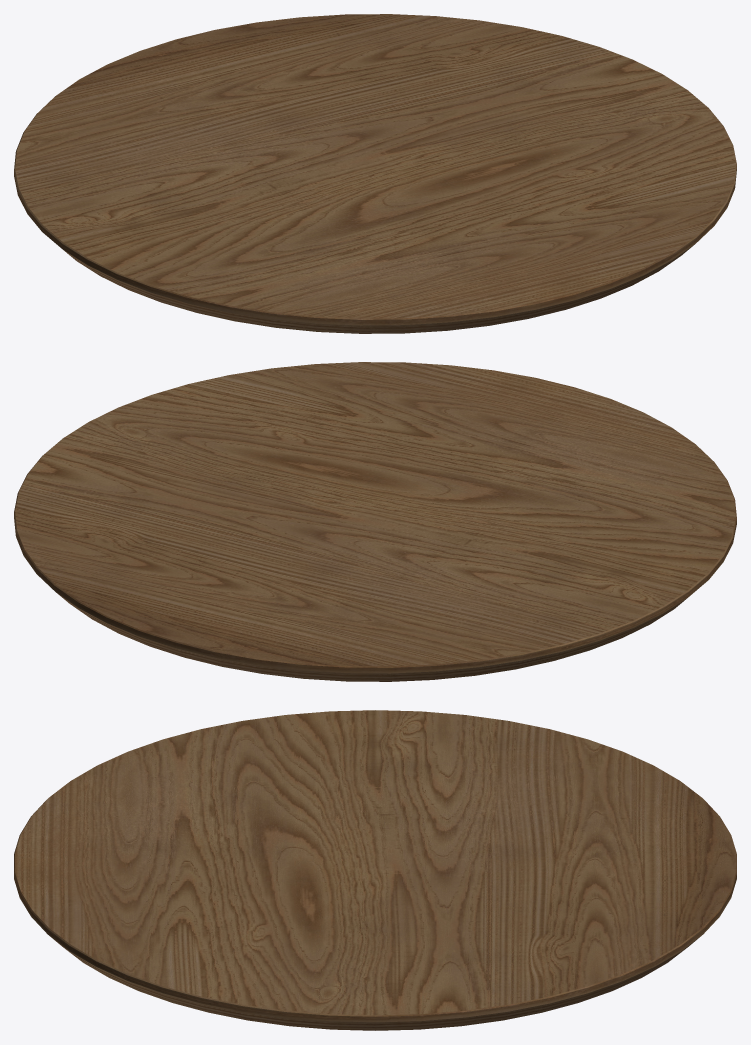
File: rustic_wood_1.glb
3 renders of one model, top to bottom at view 1: azimuth 30°, elevation 25°; view 2: azimuth 150°, elevation 25°; view 3: azimuth 270°, elevation 25°, orthographic.
Parts seen in each view (by area): view 1: round_table_low; view 2: round_table_low; view 3: round_table_low.
Boxes of the visible parts, x1=… form: round_table_low: x1=14, y1=14, x2=736, y2=333; round_table_low: x1=14, y1=362, x2=736, y2=681; round_table_low: x1=14, y1=710, x2=736, y2=1030.
Size of the model in its own units: 120 by 4 by 120.
1 material, 1 textured.
